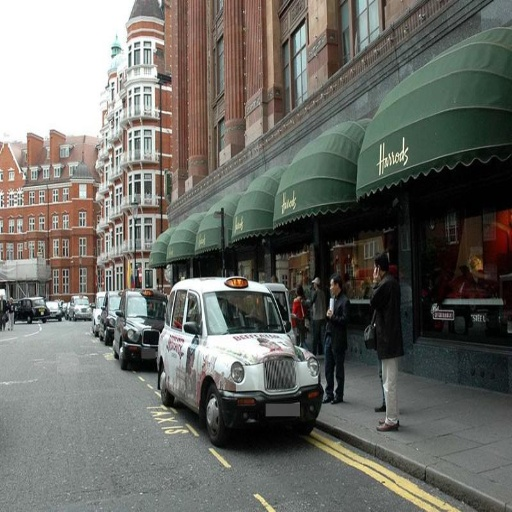front_bumper: (266, 355, 318, 417)
trunk: (167, 323, 238, 393)
